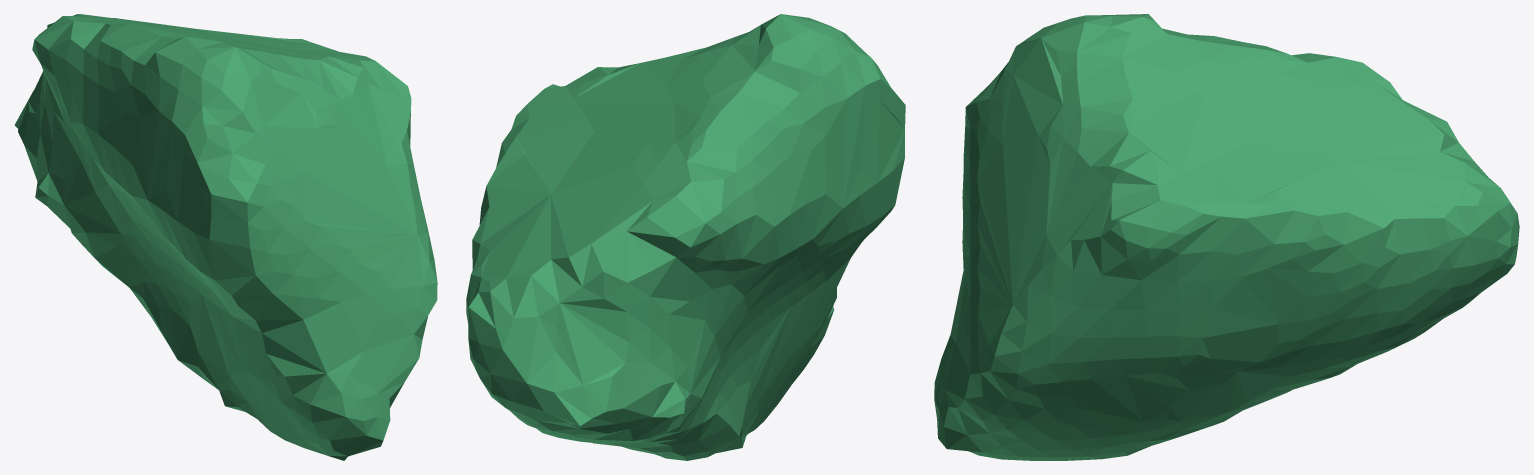
Rendered from Model_137_RH__Temporal_proisocortex_(TPro).obj.
3 views of the same model, side by side, from view 1: azimuth 30°, elevation 25°; view 2: azimuth 150°, elevation 25°; view 3: azimuth 270°, elevation 25° (orthographic). The views are drawn at different scales.
Bounding box in the file's own units: 0.97 × 1.35 × 1.75.
